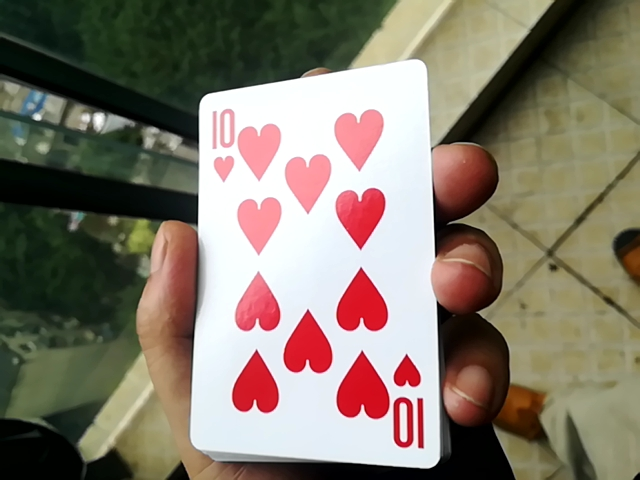hx 10: (177, 47, 438, 458)
